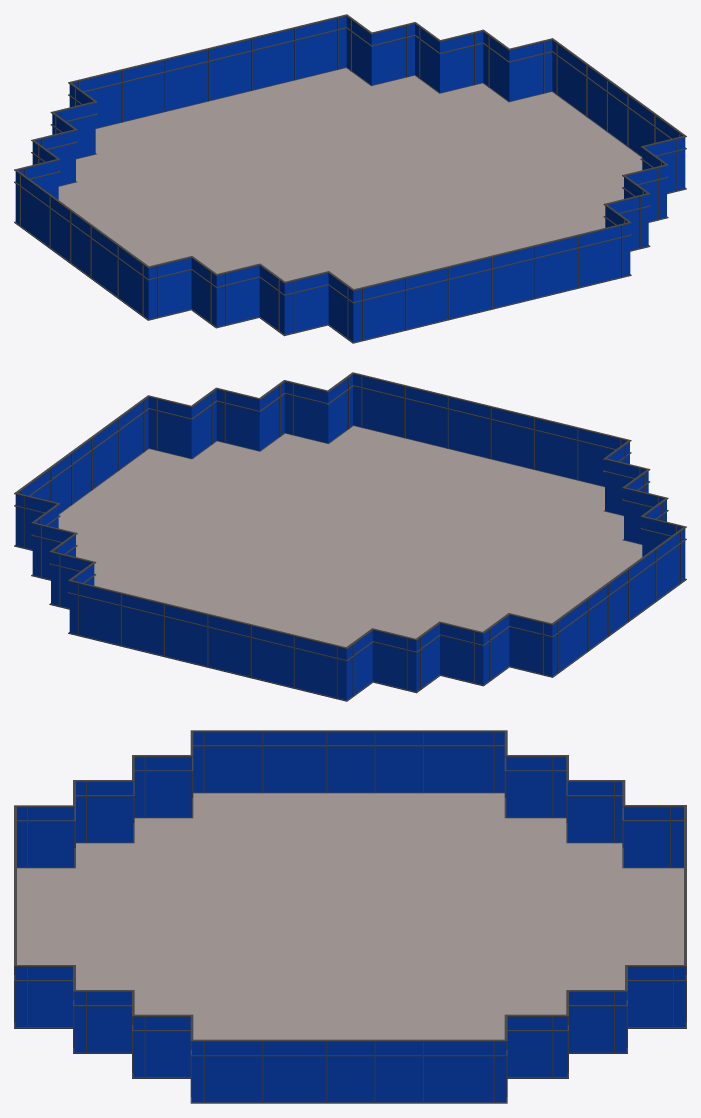
The model's file is floor22.glb.
3 views of the same model, one above another, from view 1: azimuth 30°, elevation 25°; view 2: azimuth 150°, elevation 25°; view 3: azimuth 270°, elevation 25° (orthographic). The views are drawn at different scales.
Parts seen in each view (by area): view 1: Floor plans 22TH Floor (1), Floor plans 22TH Floor Window Glass, Floor plans 22TH Floor Window Joinery; view 2: Floor plans 22TH Floor (1), Floor plans 22TH Floor Window Glass, Floor plans 22TH Floor Window Joinery; view 3: Floor plans 22TH Floor (1), Floor plans 22TH Floor Window Glass, Floor plans 22TH Floor Window Joinery.
Boxes of the visible parts, bbox=[...] form: Floor plans 22TH Floor (1): bbox=[58, 68, 642, 288]; Floor plans 22TH Floor Window Glass: bbox=[15, 16, 685, 342]; Floor plans 22TH Floor Window Joinery: bbox=[14, 14, 686, 343]; Floor plans 22TH Floor (1): bbox=[58, 426, 642, 646]; Floor plans 22TH Floor Window Glass: bbox=[15, 374, 685, 700]; Floor plans 22TH Floor Window Joinery: bbox=[14, 372, 686, 701]; Floor plans 22TH Floor (1): bbox=[17, 793, 683, 1039]; Floor plans 22TH Floor Window Glass: bbox=[15, 732, 685, 1102]; Floor plans 22TH Floor Window Joinery: bbox=[14, 730, 686, 1103].
Bounding box in the file's own units: 38.04 × 3.59 × 34.82.
